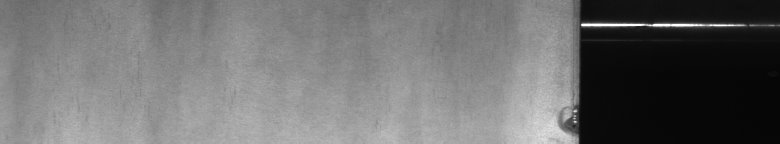hb: (551, 100, 568, 136)
